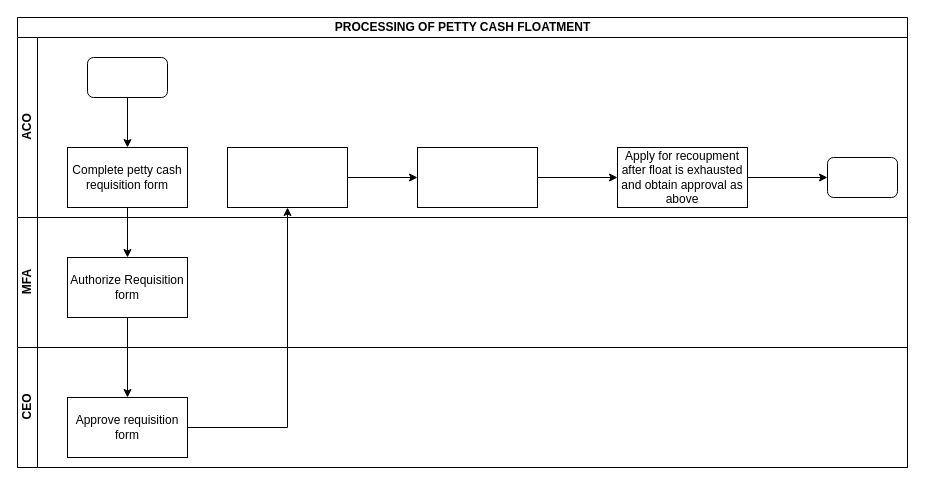
Image size: 925x485. Some labels were removed from this diagram. The centre of each missing label's shape, as x and y in pixels:
"End" belongs at (x=862, y=177).
"Raise payment voucher" belongs at (x=287, y=177).
"Start" belongs at (x=127, y=77).
"Withdraw cash and record in petty cash book" belongs at (x=477, y=177).
